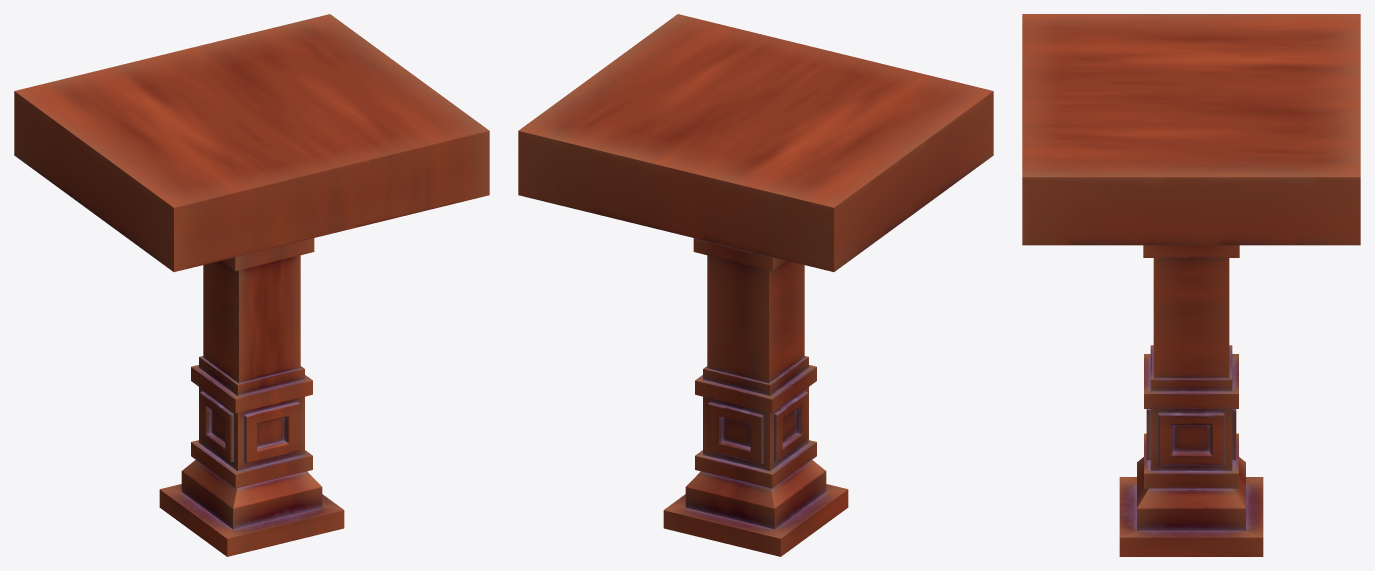
Rendered from small_table 1.fbx.
3 renders of one model, left to right at view 1: azimuth 30°, elevation 25°; view 2: azimuth 150°, elevation 25°; view 3: azimuth 270°, elevation 25°, orthographic. The views are drawn at different scales.
Visible parts, largest first — view 1: table; view 2: table; view 3: table.
Boxes of the visible parts, x1,y1,x2,y2 form: table: (14, 14, 489, 556); table: (518, 14, 993, 556); table: (1022, 14, 1360, 556).
Size of the model in its own units: 654 by 805 by 572.
